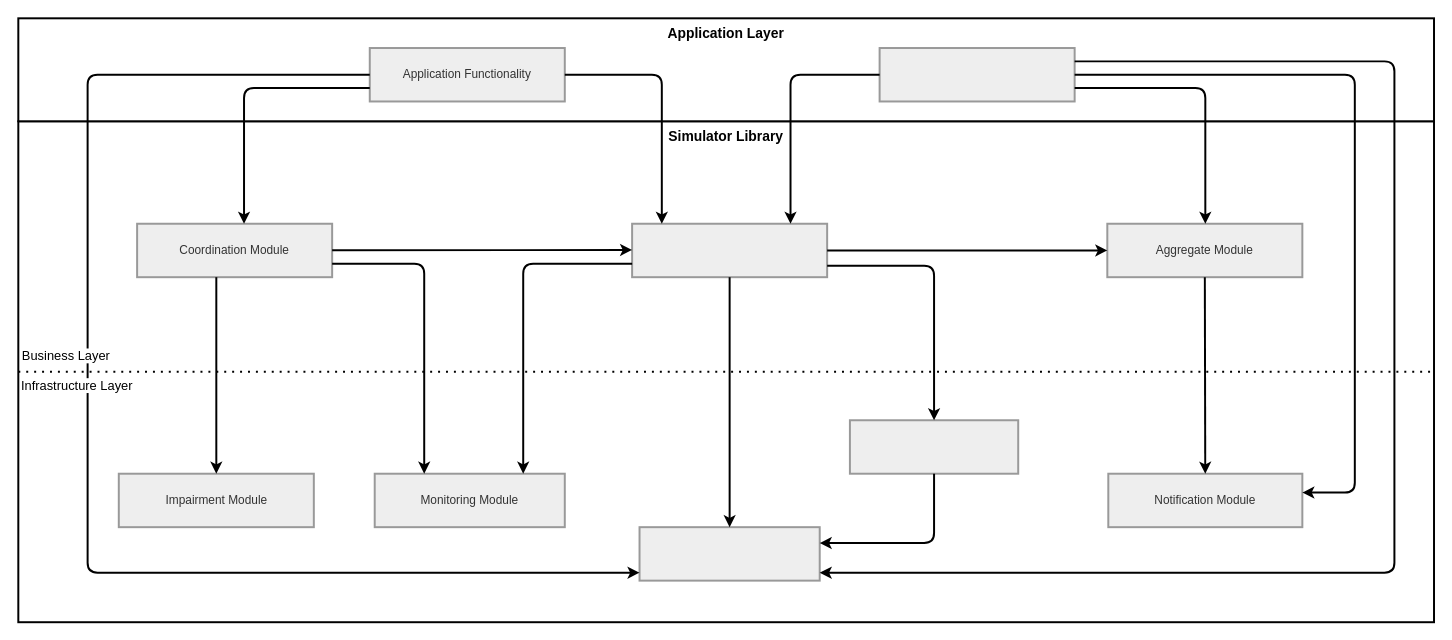
Image size: 1452x640. Some labels were removed from this diagram. Here are the shapes that lost their labels. From the top down, the centre of each, then its label:
At point (976, 74): "Application Aggregate".
At point (729, 250): "Transaction Module".
At point (933, 446): "Version Module".
At point (729, 553): "Message Module".
